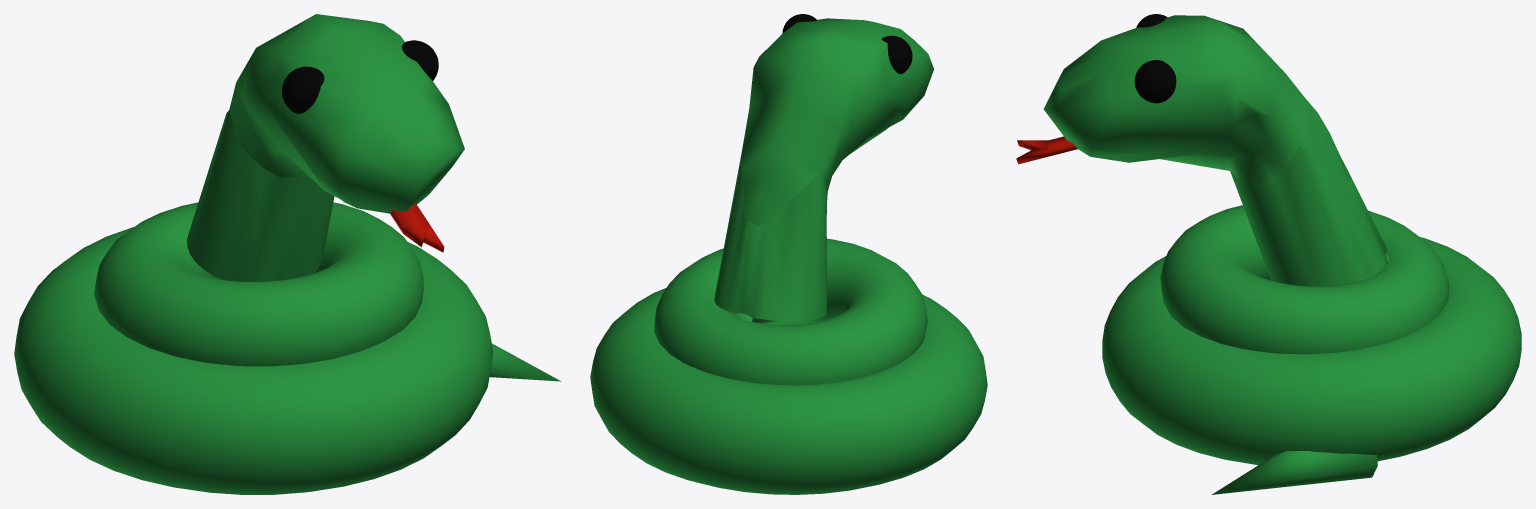
Rendered from snake.glb.
3 renders of one model, left to right at view 1: azimuth 30°, elevation 25°; view 2: azimuth 150°, elevation 25°; view 3: azimuth 270°, elevation 25°, orthographic. The views are drawn at different scales.
Parts seen in each view (by area): view 1: snek; view 2: snek; view 3: snek.
Boxes of the visible parts, <box> form: snek: <box>14,14,561,494</box>; snek: <box>590,14,987,494</box>; snek: <box>1016,14,1521,494</box>.
Bounding box in the file's own units: 3.78 × 3.51 × 4.11.
Materials: 1 (1 with a texture image).
